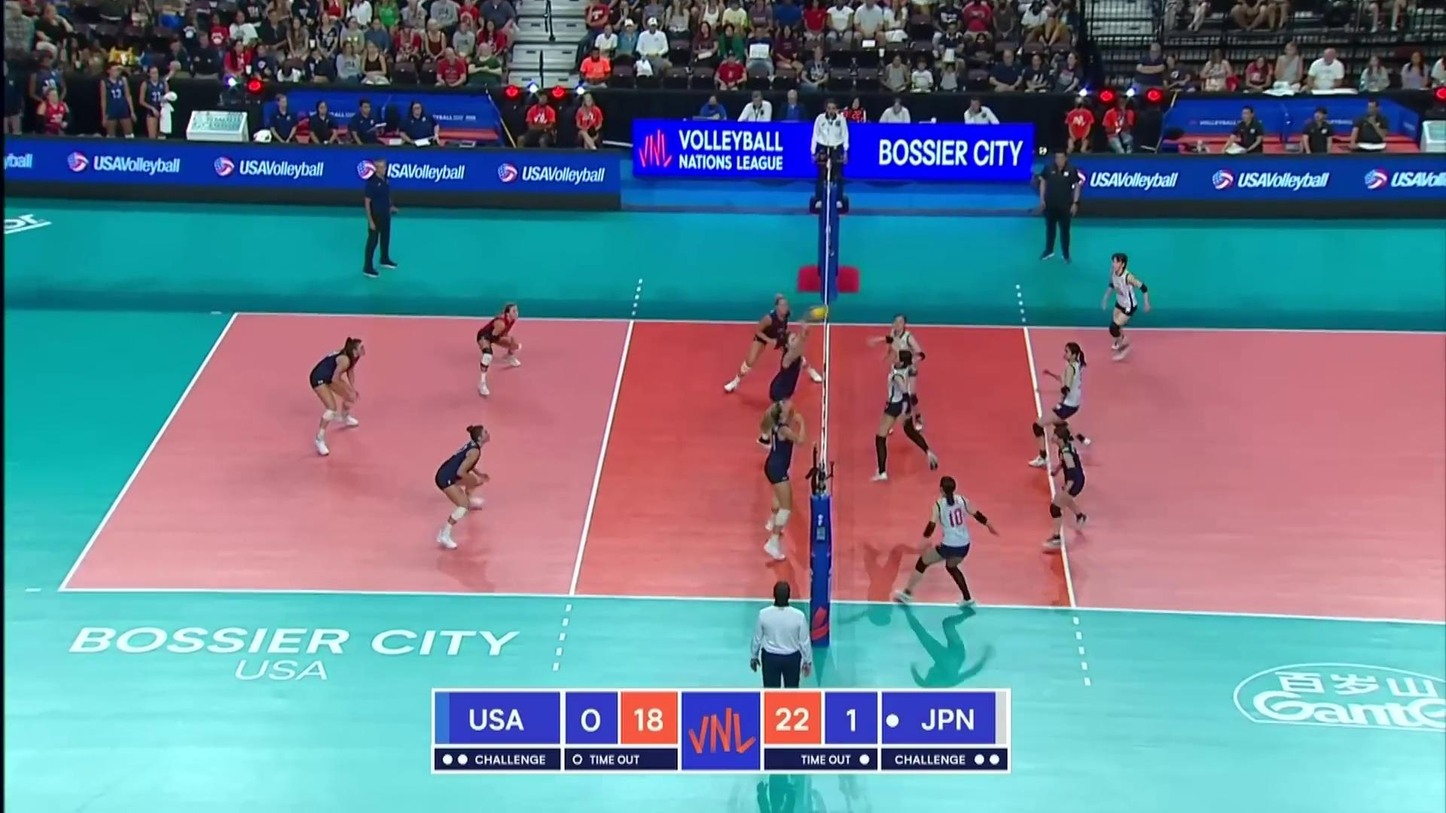player: (895, 475, 998, 610), (723, 296, 822, 392), (871, 347, 939, 481), (757, 322, 810, 473), (436, 423, 492, 553), (309, 336, 366, 457), (761, 400, 804, 559), (1031, 341, 1084, 465), (874, 315, 928, 431), (1046, 427, 1090, 548), (1102, 254, 1148, 362), (475, 304, 524, 400)
refree: (749, 581, 815, 688), (810, 102, 850, 209)
